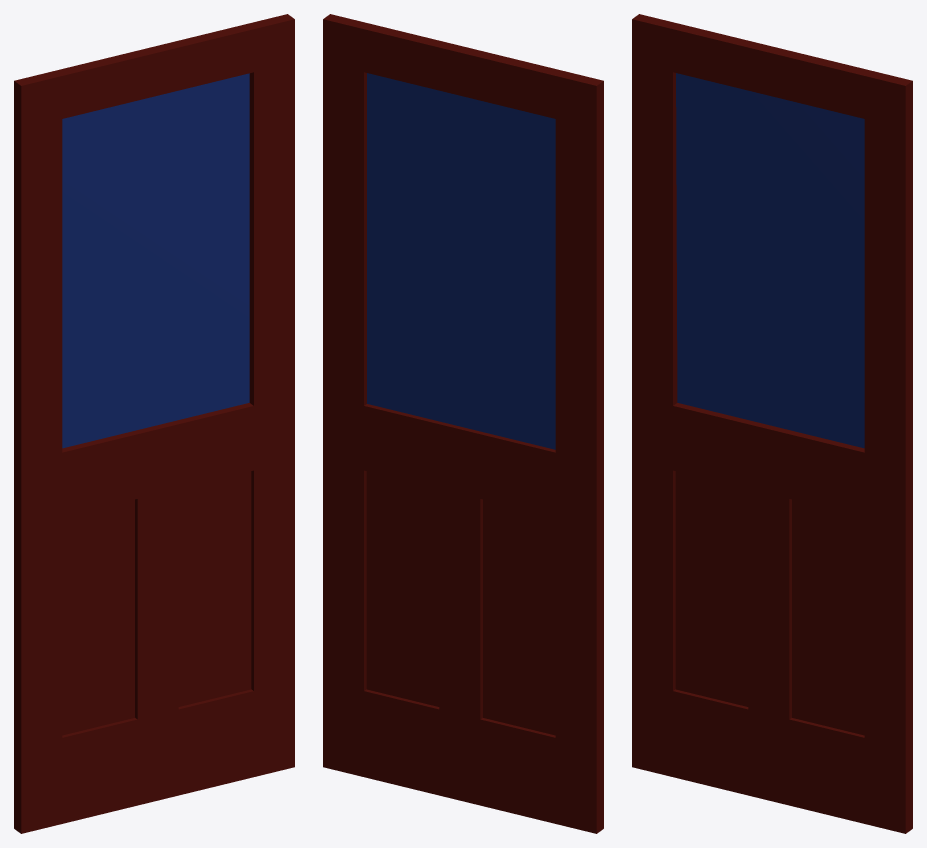
Rendered from RearDoor_Final_05.fbx.
The picture shows the model from 3 angles, left to right: view 1: azimuth 30°, elevation 25°; view 2: azimuth 150°, elevation 25°; view 3: azimuth 330°, elevation 25°; orthographic projection.
Visible parts, largest first — view 1: DoorMesh_01; view 2: DoorMesh_01; view 3: DoorMesh_01.
Boxes of the visible parts, box(x1,y1,x2,y2) form: DoorMesh_01: box(14, 14, 294, 833); DoorMesh_01: box(323, 14, 603, 833); DoorMesh_01: box(632, 14, 912, 833).
Size of the model in its own units: 31.35 by 1.41 by 81.88.
